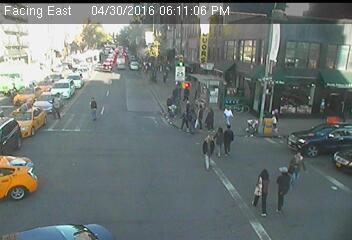neg: (106, 138, 137, 178), (4, 78, 32, 115), (8, 137, 31, 168), (257, 63, 280, 93), (292, 93, 313, 122), (98, 31, 118, 58), (62, 139, 80, 163), (124, 56, 141, 78), (158, 203, 175, 225), (218, 49, 234, 71), (44, 183, 60, 205), (59, 41, 74, 61), (303, 52, 317, 71)
pos: (249, 166, 281, 210), (272, 163, 301, 201), (194, 135, 219, 168), (219, 120, 242, 150), (158, 100, 178, 126), (190, 103, 210, 129), (210, 125, 229, 151), (88, 95, 106, 120), (46, 90, 64, 115), (203, 107, 220, 130), (291, 147, 307, 169), (178, 105, 194, 126), (222, 105, 236, 124), (178, 85, 190, 101), (160, 68, 171, 84)
